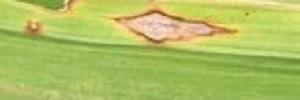RiceBlast: (108, 4, 240, 53), (23, 13, 49, 40)
